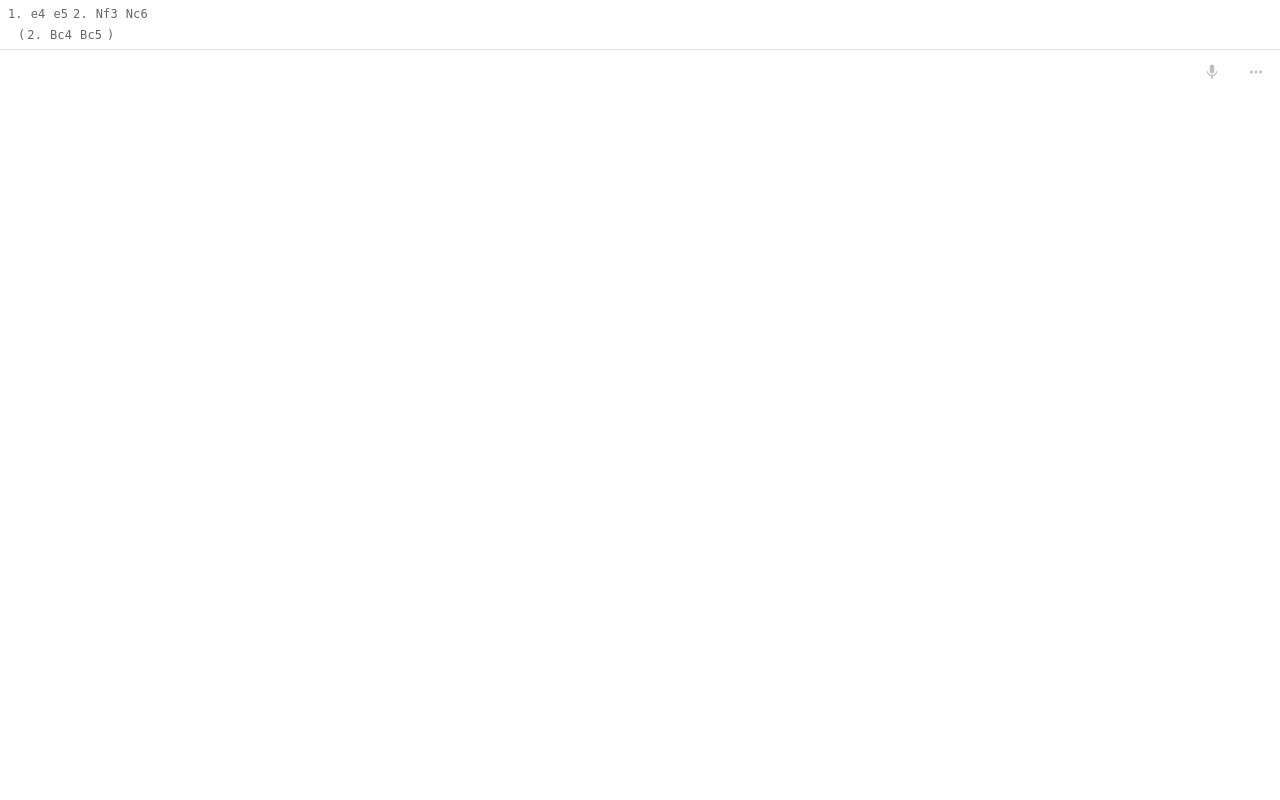
Test case: Recording a voice note › desktop right-click menu: "Voice note" opens the recorder
The width and height of the screenshot is (1280, 800).
Right-click the text "e5" at (61, 14), box [53,7,68,21]
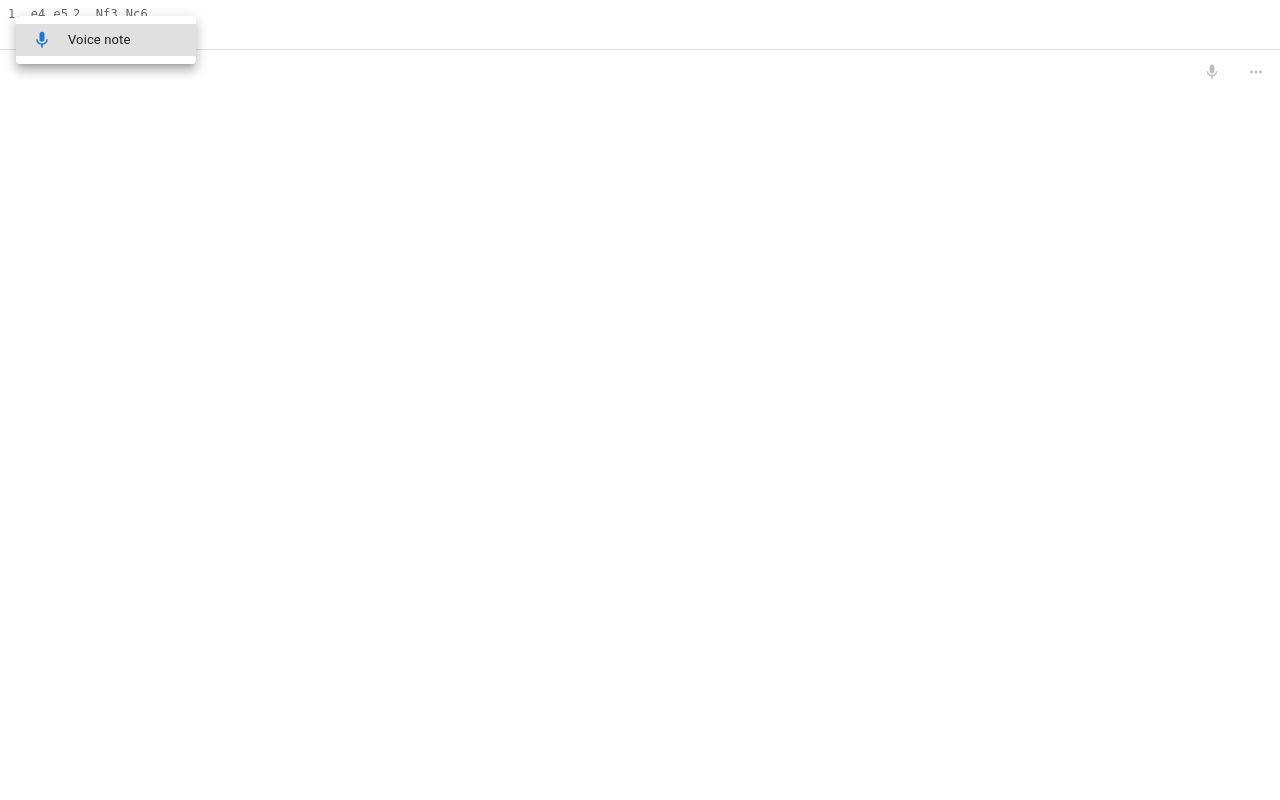
Click the menu item "Voice note" at (106, 40), box [16,24,196,56]
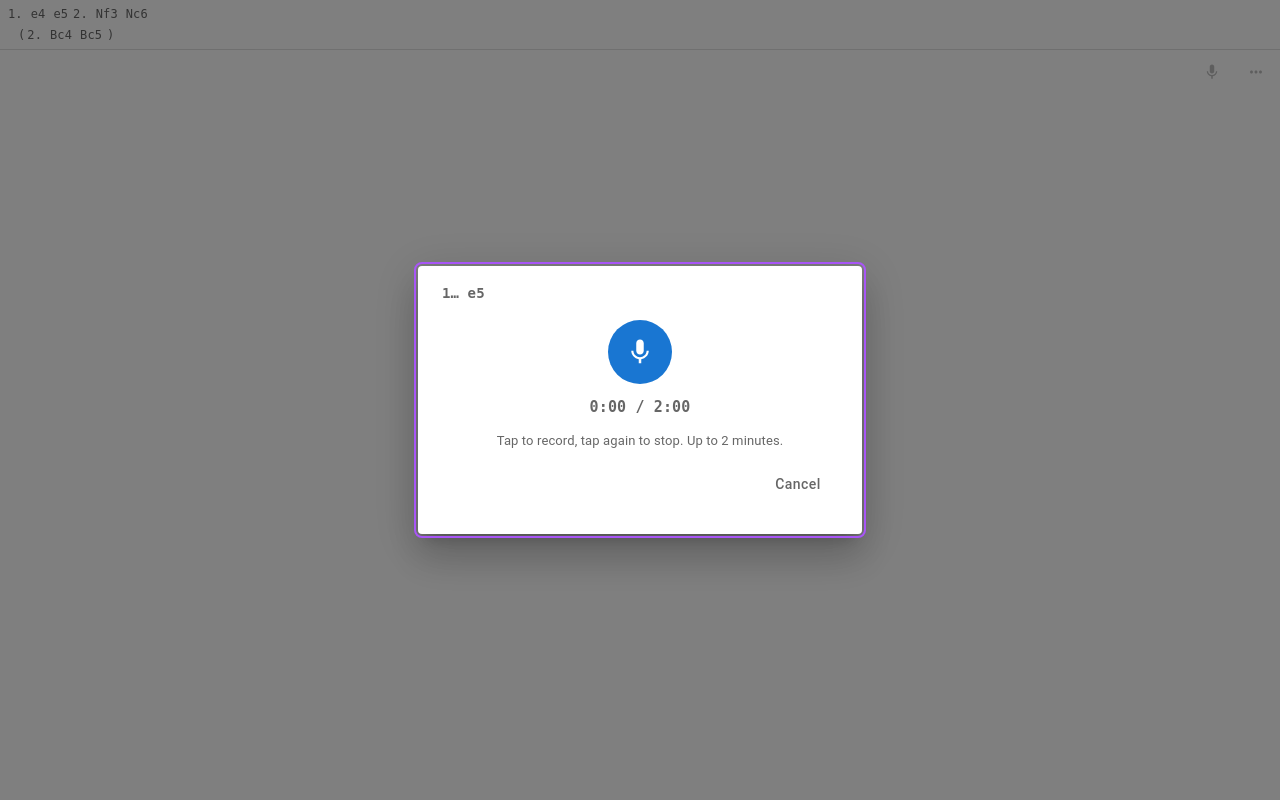
Expected: the heading "1… e5" is shown, [442,285,485,301]
Expected: the element with test id "voice-note-recorder" is shown, [497,320,830,506]
